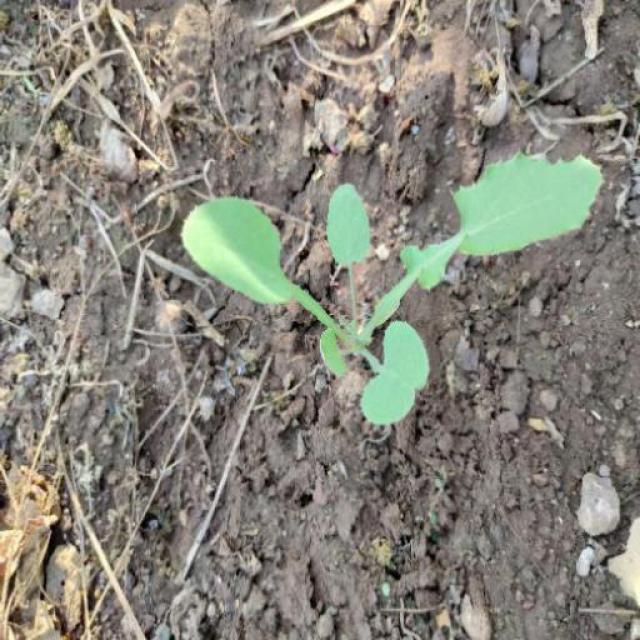weed: (184, 142, 606, 426)
